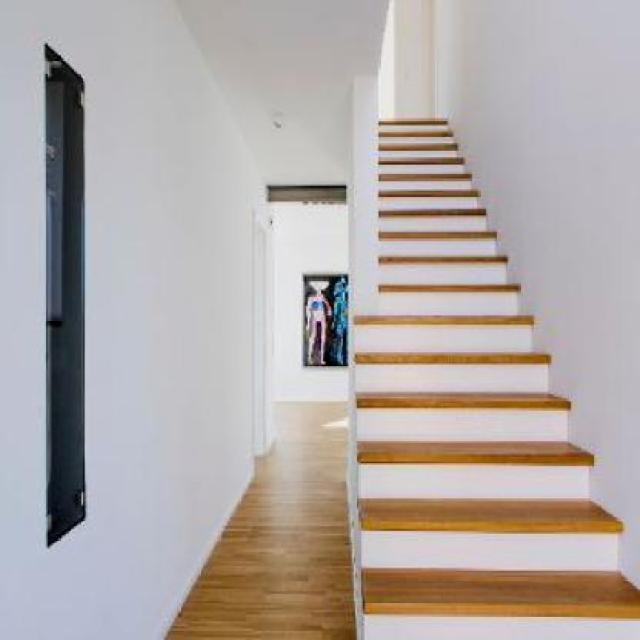stair: (347, 23, 633, 639)
